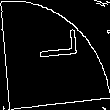L_W: (30, 38, 80, 72)
